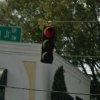Traffic light: (25, 16, 59, 70)
